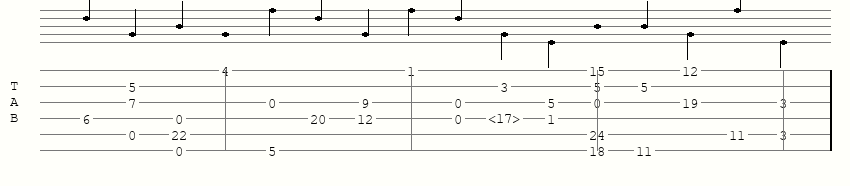0: (128, 128, 140, 141), (175, 144, 187, 157), (175, 112, 187, 125), (268, 96, 280, 109), (454, 96, 466, 109), (454, 112, 466, 125), (593, 96, 605, 109)
1: (407, 64, 419, 77), (547, 112, 559, 125)
11: (636, 144, 656, 157), (729, 128, 749, 141)
12: (357, 112, 377, 125), (682, 64, 702, 77)
15: (589, 64, 609, 77)
18: (589, 144, 609, 157)
19: (682, 96, 702, 109)
20: (310, 112, 330, 125)
22: (171, 128, 191, 141)
24: (589, 128, 609, 141)
3: (500, 80, 512, 93), (779, 128, 791, 141), (779, 96, 791, 109)
4: (221, 64, 233, 77)
5: (128, 80, 140, 93), (268, 144, 280, 157), (547, 96, 559, 109), (593, 80, 605, 93), (640, 80, 652, 93)
6: (82, 112, 94, 125)
7: (128, 96, 140, 109)
9: (361, 96, 373, 109)
harmonic: (488, 111, 524, 125)
